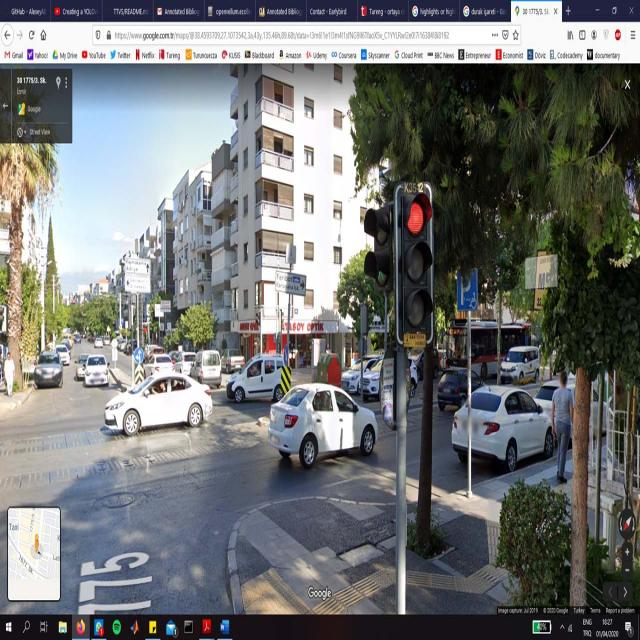ilerisol: (134, 348, 144, 364)
kirmizi: (400, 187, 430, 343)
park: (457, 270, 477, 312)
